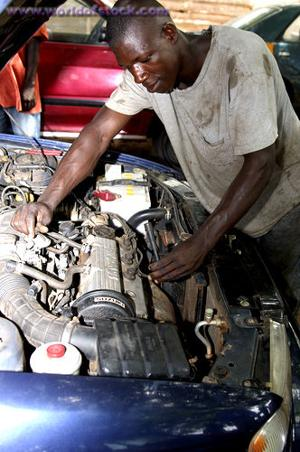person: (9, 1, 299, 323)
